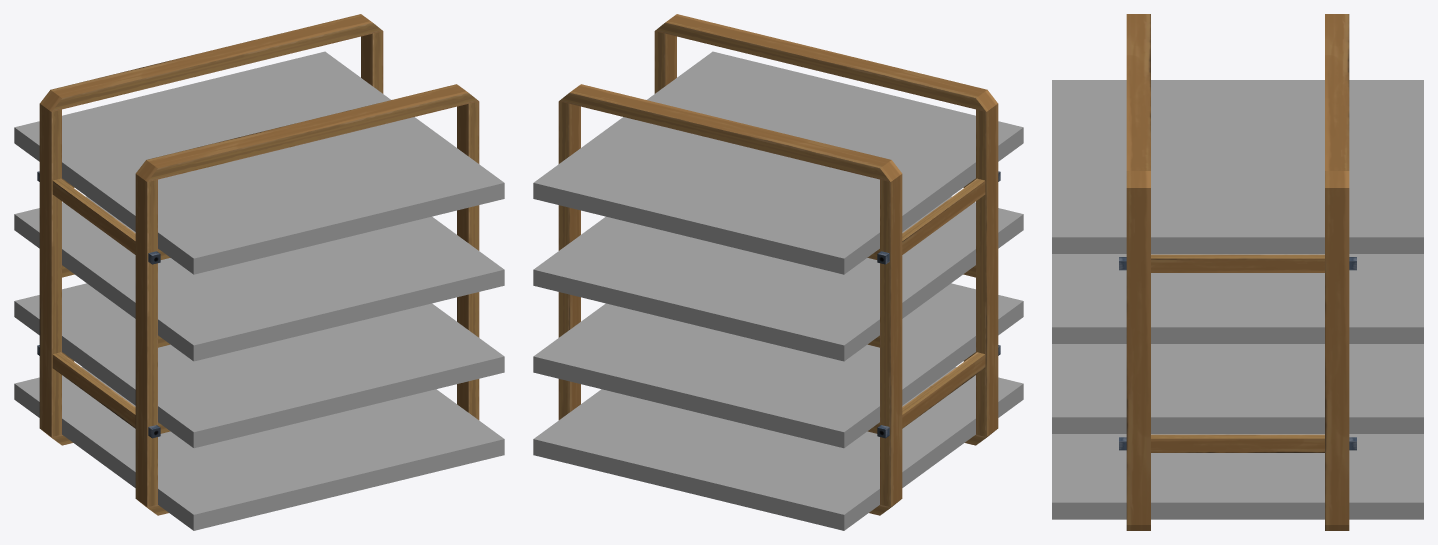
Rendered from GlassStacked4.fbx.
The picture shows the model from 3 angles, left to right: view 1: azimuth 30°, elevation 25°; view 2: azimuth 150°, elevation 25°; view 3: azimuth 270°, elevation 25°; orthographic projection. The views are drawn at different scales.
Visible parts, largest first — view 1: GlassStacked4; view 2: GlassStacked4; view 3: GlassStacked4.
Part boxes in pixels (bbox=[...]): GlassStacked4: bbox=[14, 14, 504, 530]; GlassStacked4: bbox=[533, 14, 1023, 530]; GlassStacked4: bbox=[1052, 14, 1423, 530].
Bounding box in the file's own units: 100 × 100 × 93.64.
